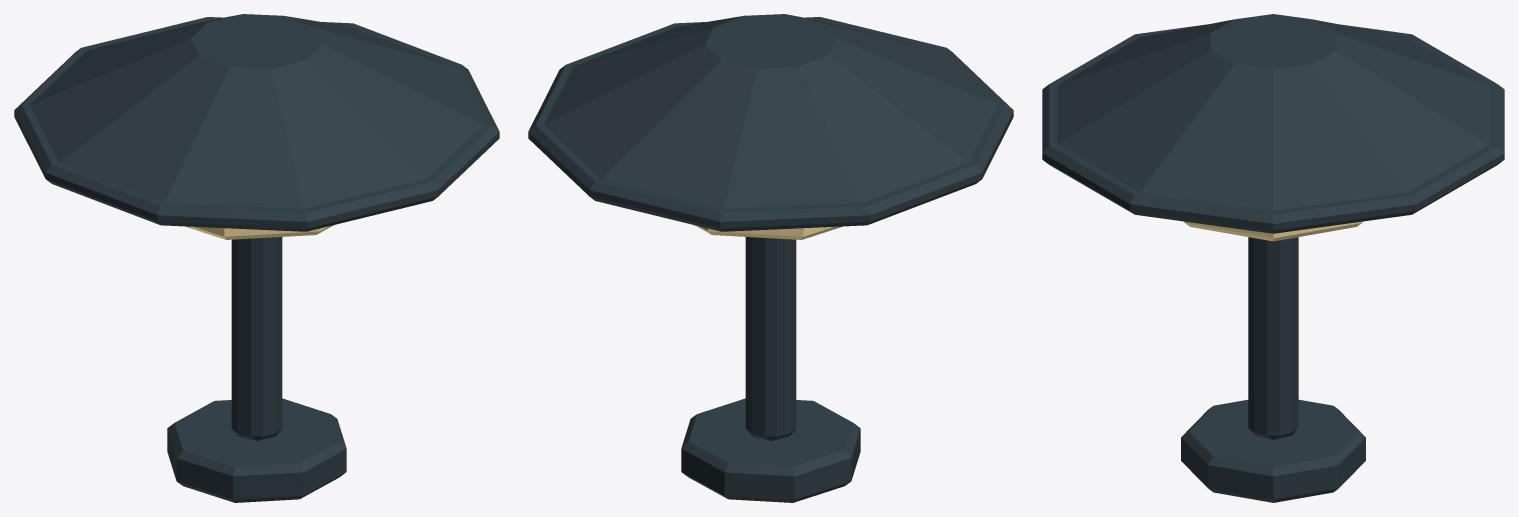
Rendered from b18_low_mushroom_landscape_light.glb.
The picture shows the model from 3 angles, left to right: view 1: azimuth 30°, elevation 25°; view 2: azimuth 150°, elevation 25°; view 3: azimuth 270°, elevation 25°; orthographic projection.
Visible parts, largest first — view 1: b18_low_mushroom_landscape_light; view 2: b18_low_mushroom_landscape_light; view 3: b18_low_mushroom_landscape_light.
Part boxes in pixels (x1=…): b18_low_mushroom_landscape_light: x1=14, y1=14, x2=499, y2=502; b18_low_mushroom_landscape_light: x1=528, y1=14, x2=1013, y2=502; b18_low_mushroom_landscape_light: x1=1042, y1=14, x2=1504, y2=502.
Bounding box in the file's own units: 0.368 × 0.355 × 0.35.
